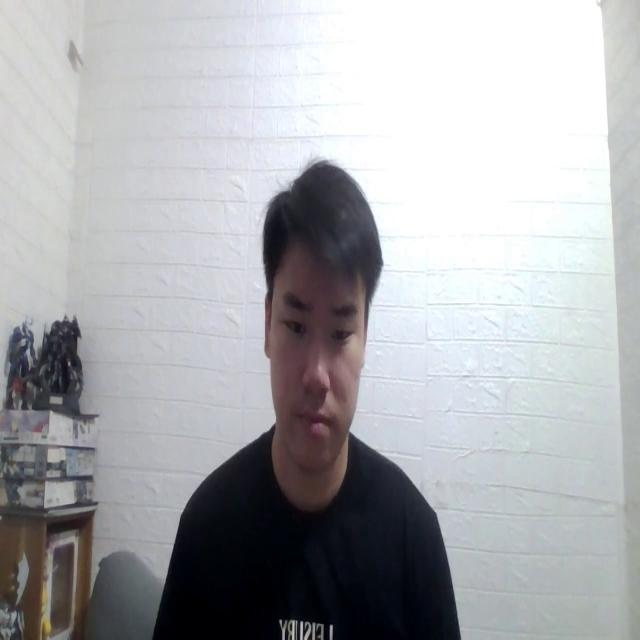student: (166, 157, 458, 640)
